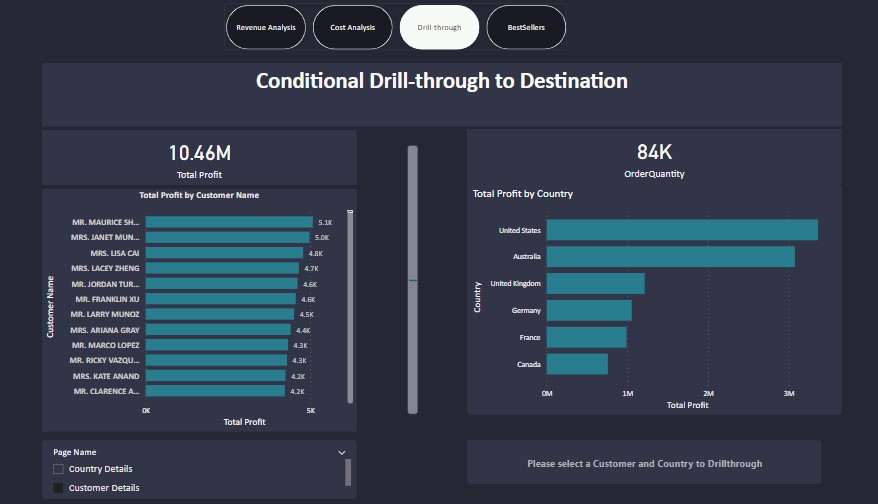

Layout of this report page (visuals, bound fields, positions):
{"tool":"powerbi","page":{"name":"Drill-through","canvas":[1280,720],"ordinal":2},"visuals":[{"type":"pageNavigator","box":[343,9.9,401.1,68],"z":0},{"type":"barChart","fields":{"Y":["Table.Total Profit"],"Category":["Customers.Customer Name"]},"box":[85,270.7,446.5,344.4],"z":1000},{"type":"barChart","title":"Total Profit by Contact","fields":{"Y":["Table.Total Profit"],"Category":["Territories.Country"]},"box":[687.4,269.3,531.5,344.4],"z":2000},{"type":"card","fields":{"Values":["Fact_Sales.OrderQuantity"]},"box":[687.4,188.8,531.5,78],"z":3000},{"type":"card","fields":{"Values":["Table.Total Profit"]},"box":[85,189.9,446.5,78],"z":4000},{"type":"shape","box":[602.8,211.8,15.8,381.6],"z":5000},{"type":"textbox","box":[85,95,1133.7,90.5],"z":6000},{"type":"actionButton","box":[688.1,638.9,446.2,55.5],"z":7000},{"type":"slicer","fields":{"Values":["Navigation.Page Name"]},"box":[85,614.8,276.2,83.2],"z":8000}]}

Visuals, with their boxes in screenshot pixels (x1, y1, x2, y2), scaled from the page's 1280x720 canvas onto the 878x504 screenshot:
pageNavigator: box=[235, 7, 510, 55]
barChart - Table.Total Profit x Customers.Customer Name: box=[58, 189, 365, 431]
"Total Profit by Contact" barChart: box=[472, 189, 836, 430]
card - Fact_Sales.OrderQuantity: box=[472, 132, 836, 187]
card - Table.Total Profit: box=[58, 133, 365, 188]
shape: box=[413, 148, 424, 415]
textbox: box=[58, 66, 836, 130]
actionButton: box=[472, 447, 778, 486]
slicer - Navigation.Page Name: box=[58, 430, 248, 489]
